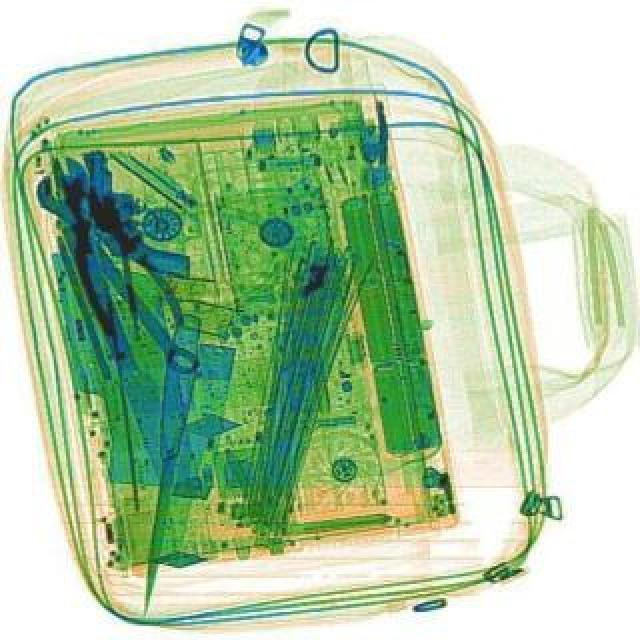gun: (74, 150, 196, 276)
knife: (68, 218, 202, 528), (128, 312, 204, 612)
scissors: (24, 160, 212, 384)
